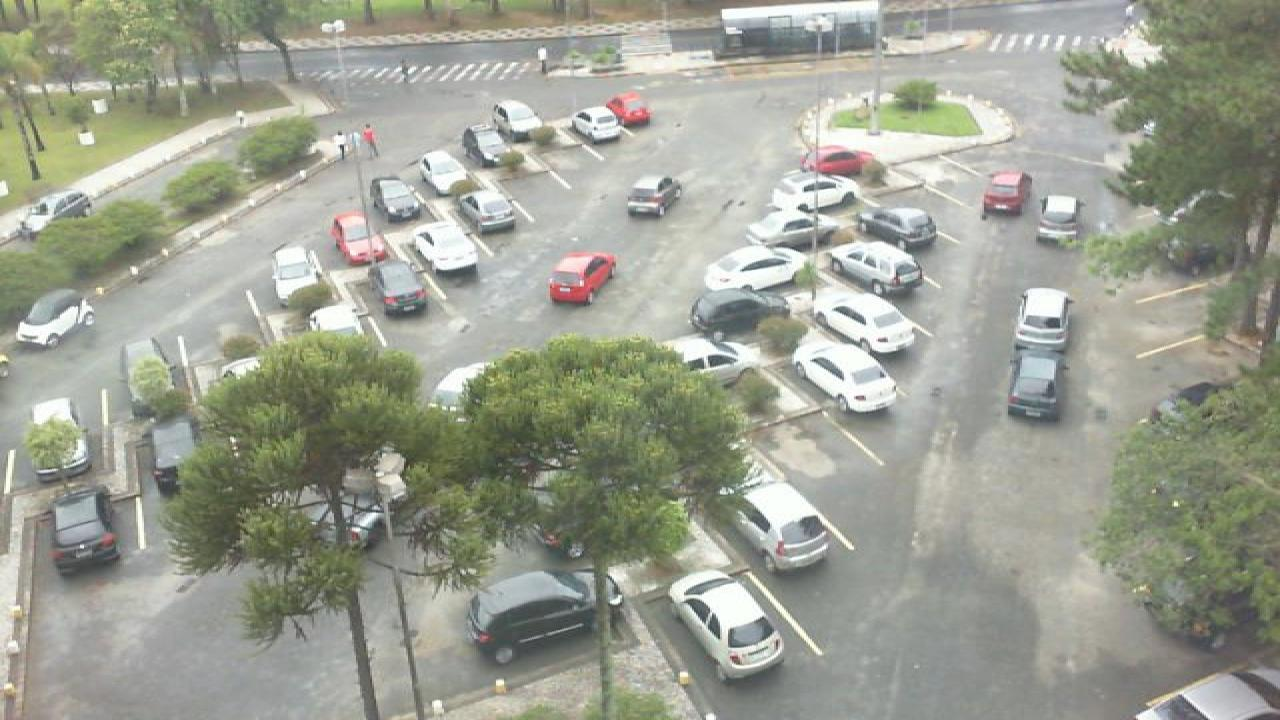Car: (462, 569, 622, 666), (664, 570, 788, 681), (710, 480, 834, 572), (792, 341, 902, 413), (1132, 667, 1280, 720), (44, 485, 126, 574), (806, 289, 918, 353), (820, 241, 928, 292), (702, 245, 810, 295), (28, 396, 92, 479), (684, 286, 784, 338), (14, 288, 96, 349), (744, 208, 852, 252), (148, 415, 206, 495), (1004, 349, 1066, 423), (1010, 286, 1072, 351), (860, 206, 938, 255), (546, 252, 618, 303), (764, 174, 860, 212), (408, 222, 478, 274), (18, 189, 92, 235), (328, 210, 388, 266), (368, 261, 430, 315), (670, 335, 748, 375), (270, 245, 322, 303), (1032, 194, 1086, 244), (978, 169, 1034, 217), (624, 174, 684, 218), (460, 190, 518, 235), (368, 176, 424, 222), (800, 144, 878, 177), (418, 150, 474, 195), (492, 99, 546, 142), (568, 106, 626, 144), (462, 124, 514, 165), (602, 91, 654, 128)
